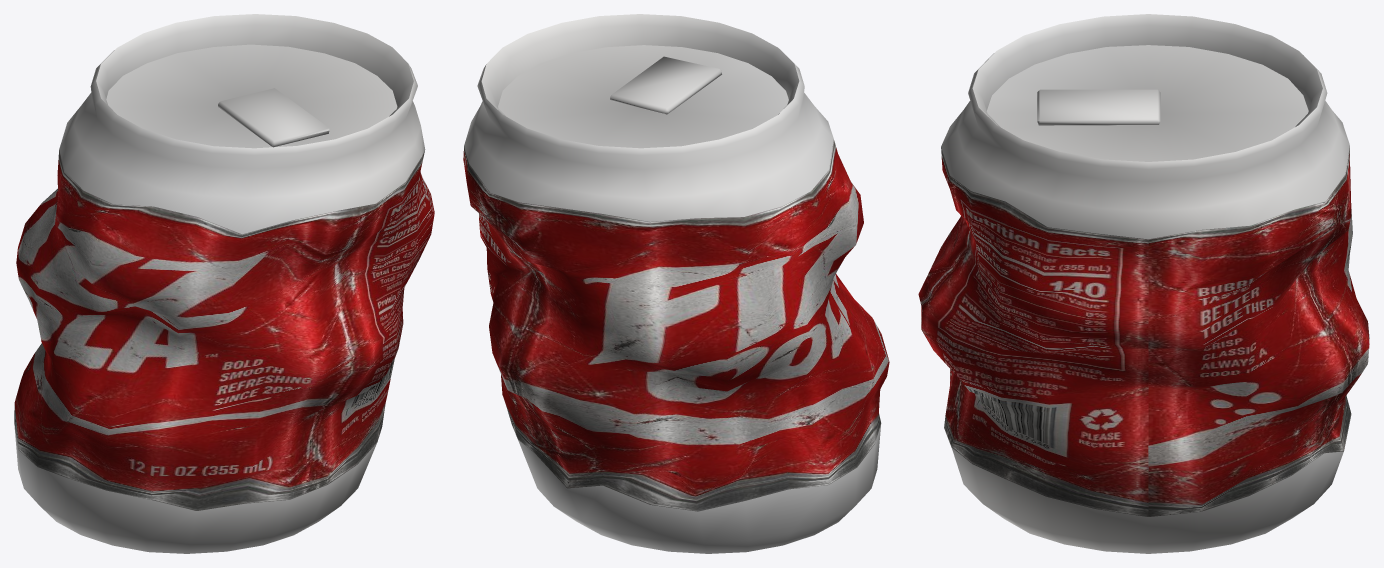
Rendered from can_crushed_a.glb.
3 views of the same model, side by side, from view 1: azimuth 30°, elevation 25°; view 2: azimuth 150°, elevation 25°; view 3: azimuth 270°, elevation 25° (orthographic). The views are drawn at different scales.
Parts seen in each view (by area): view 1: can_crushed_a; view 2: can_crushed_a; view 3: can_crushed_a.
Boxes of the visible parts, x1,y1,x2,y2 form: can_crushed_a: (14, 14, 434, 553); can_crushed_a: (463, 14, 889, 553); can_crushed_a: (918, 14, 1369, 553).
Size of the model in its own units: 0.0767 by 0.0774 by 0.0732.
2 materials, 1 textured.
